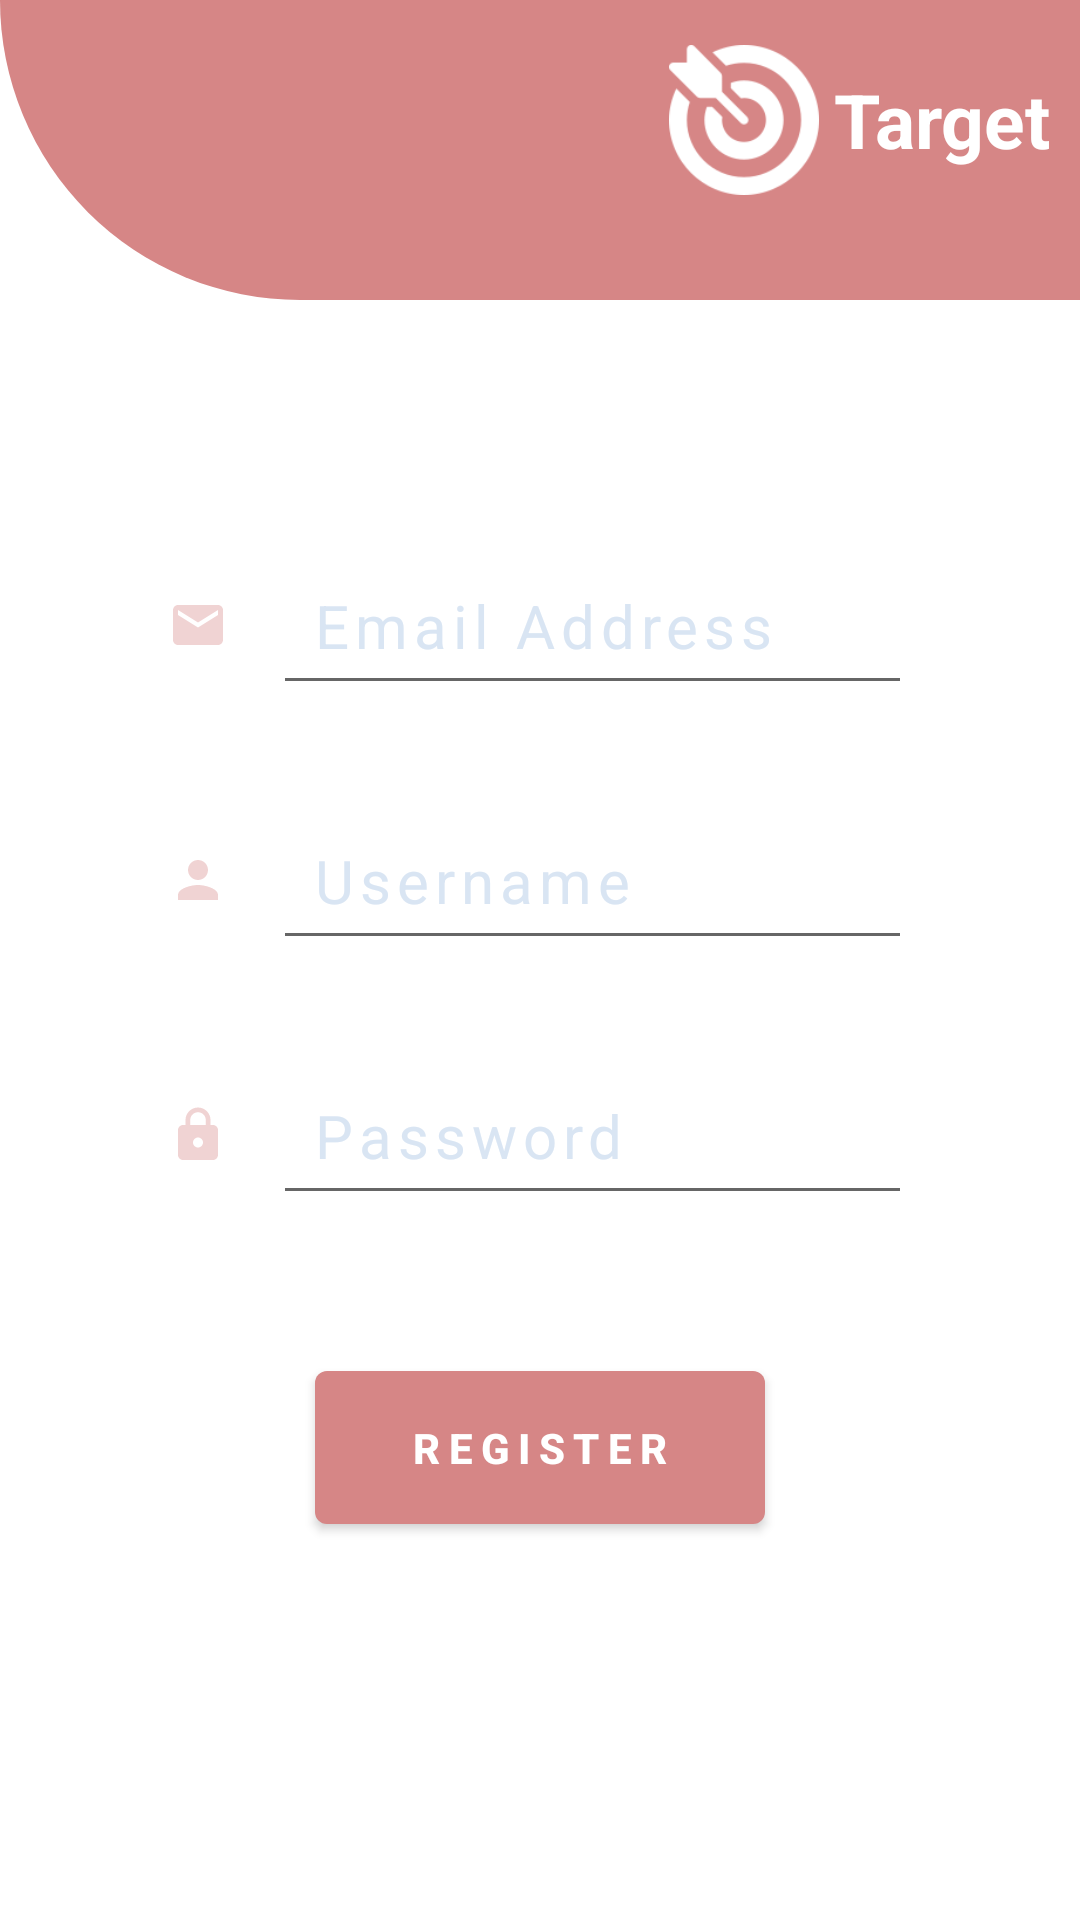

Locate icon controls on the screen. Image size 1080px×1920px, boxes as (x1, y1, x2, y2).
lock: (178, 1108, 218, 1160)
person: (178, 860, 218, 900)
